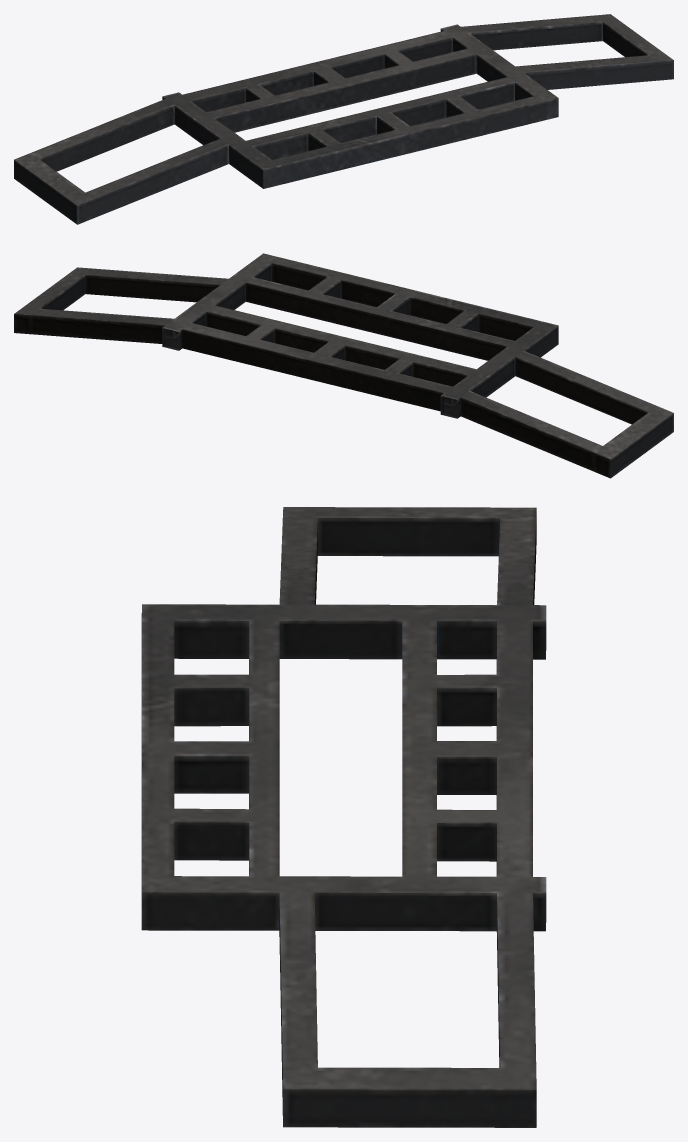
File: FordF700ArmoredBumper_WorldItem.fbx
3 renders of one model, top to bottom at view 1: azimuth 30°, elevation 25°; view 2: azimuth 150°, elevation 25°; view 3: azimuth 270°, elevation 25°, orthographic. The views are drawn at different scales.
Parts seen in each view (by area): view 1: Bullbar_obj; view 2: Bullbar_obj; view 3: Bullbar_obj.
Boxes of the visible parts, left/top/right/bottom form: Bullbar_obj: left=14, top=14, right=673, bottom=224; Bullbar_obj: left=14, top=253, right=673, bottom=478; Bullbar_obj: left=141, top=507, right=546, bottom=1127.
Bounding box in the file's own units: 3.46 × 0.2452 × 1.02.
